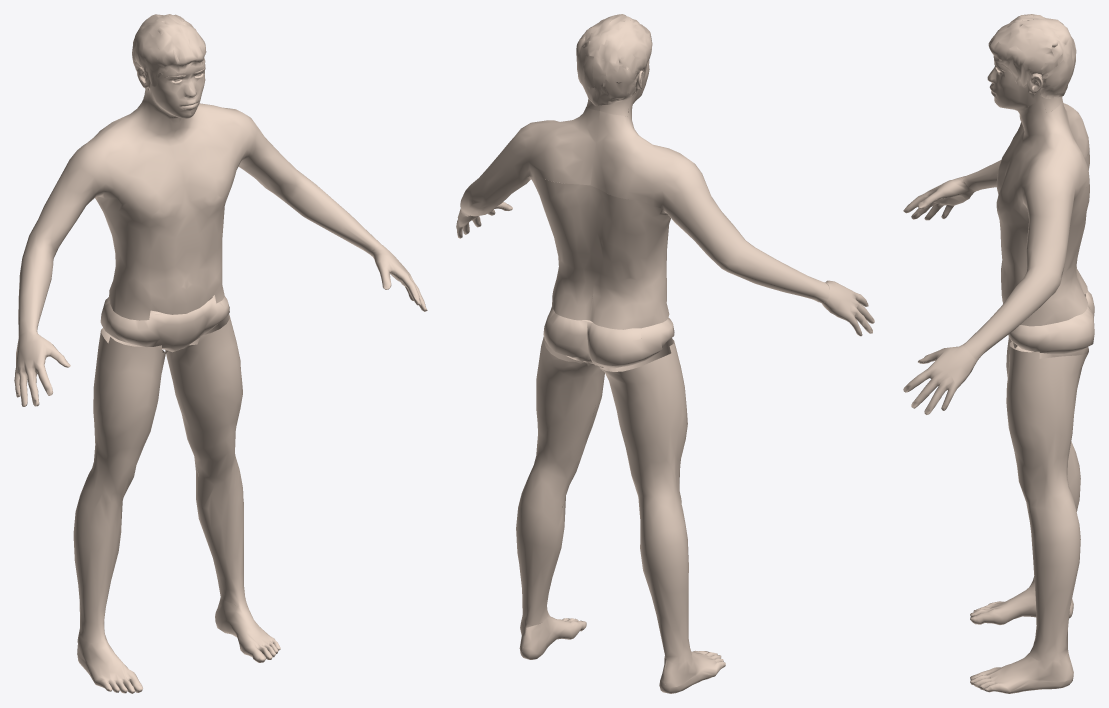
The model's file is male-base.glb.
3 renders of one model, left to right at view 1: azimuth 30°, elevation 25°; view 2: azimuth 150°, elevation 25°; view 3: azimuth 270°, elevation 25°, orthographic.
Visible parts, largest first — view 1: Male_Base_Character; view 2: Male_Base_Character; view 3: Male_Base_Character.
Boxes of the visible parts, box(x1,y1,x2,y2) form: Male_Base_Character: box(14, 14, 427, 693); Male_Base_Character: box(456, 14, 874, 693); Male_Base_Character: box(903, 14, 1094, 693).
Size of the model in its own units: 1.15 by 1.75 by 0.4774.
